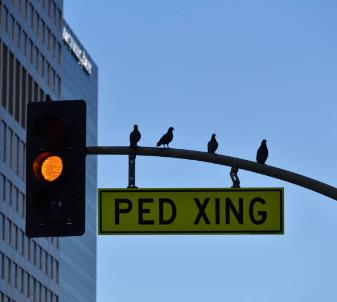yellow_light: (25, 99, 86, 237)
